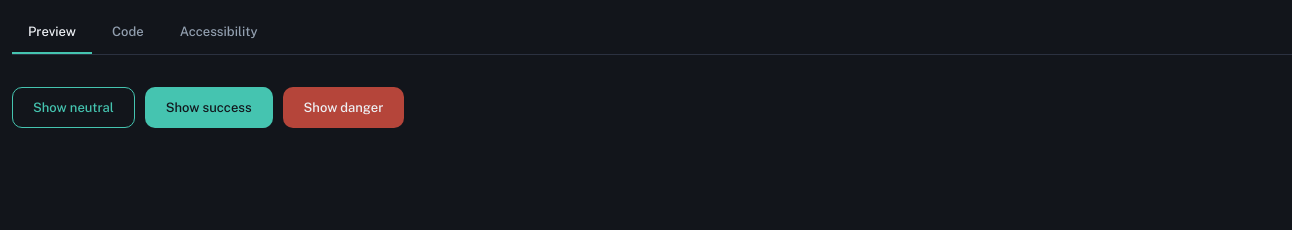
it: ToastDoc › switches to the Code tab and shows toast() snippets
What coordinates should you click on to do the following:
click the tab "Code"
I would click on:
 (128, 33)
Its box is left=96, top=12, right=160, bottom=54.
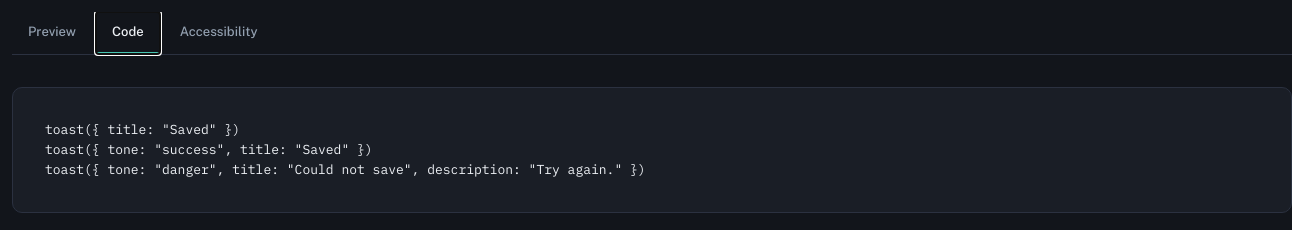
Check: the text "tone: \"danger\"" is shown, box left=45, top=120, right=646, bottom=178
